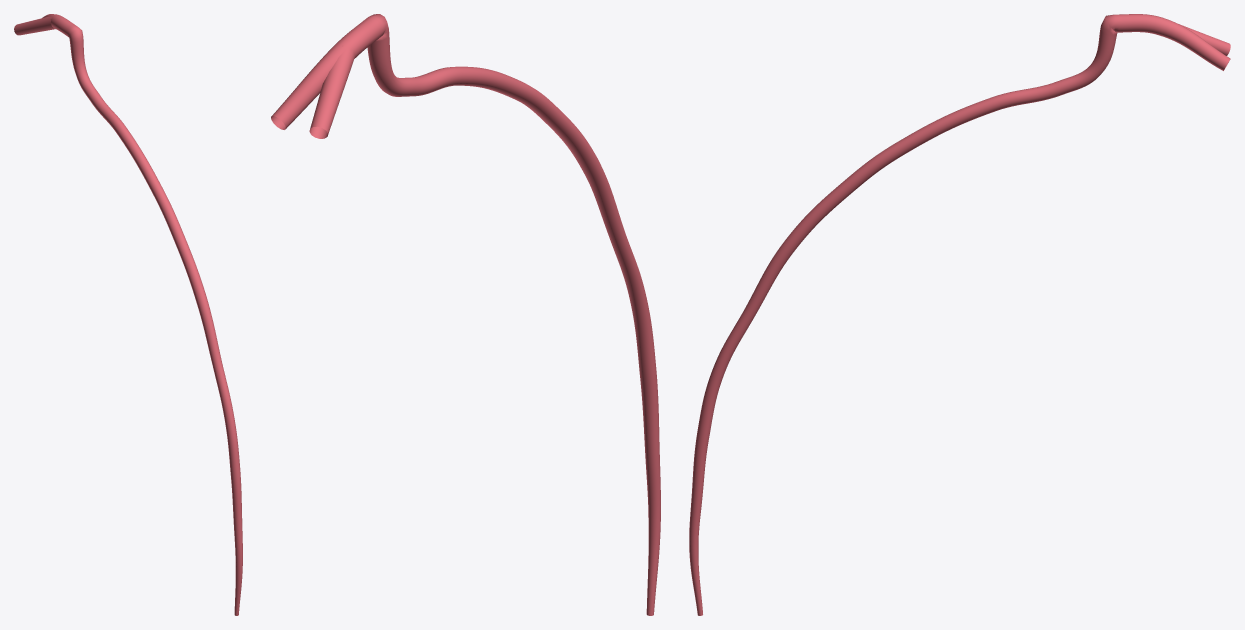
3 renders of one model, left to right at view 1: azimuth 30°, elevation 25°; view 2: azimuth 150°, elevation 25°; view 3: azimuth 270°, elevation 25°, orthographic. The views are drawn at different scales.
Visible parts, largest first — view 1: ZA_47f1bbe93eb21f82; view 2: ZA_47f1bbe93eb21f82; view 3: ZA_47f1bbe93eb21f82.
Boxes of the visible parts, <box> form: ZA_47f1bbe93eb21f82: <box>14,14,242,615</box>; ZA_47f1bbe93eb21f82: <box>271,14,660,615</box>; ZA_47f1bbe93eb21f82: <box>689,14,1230,615</box>.
Bounding box in the file's own units: 0.00539 × 0.0728 × 0.0596.
